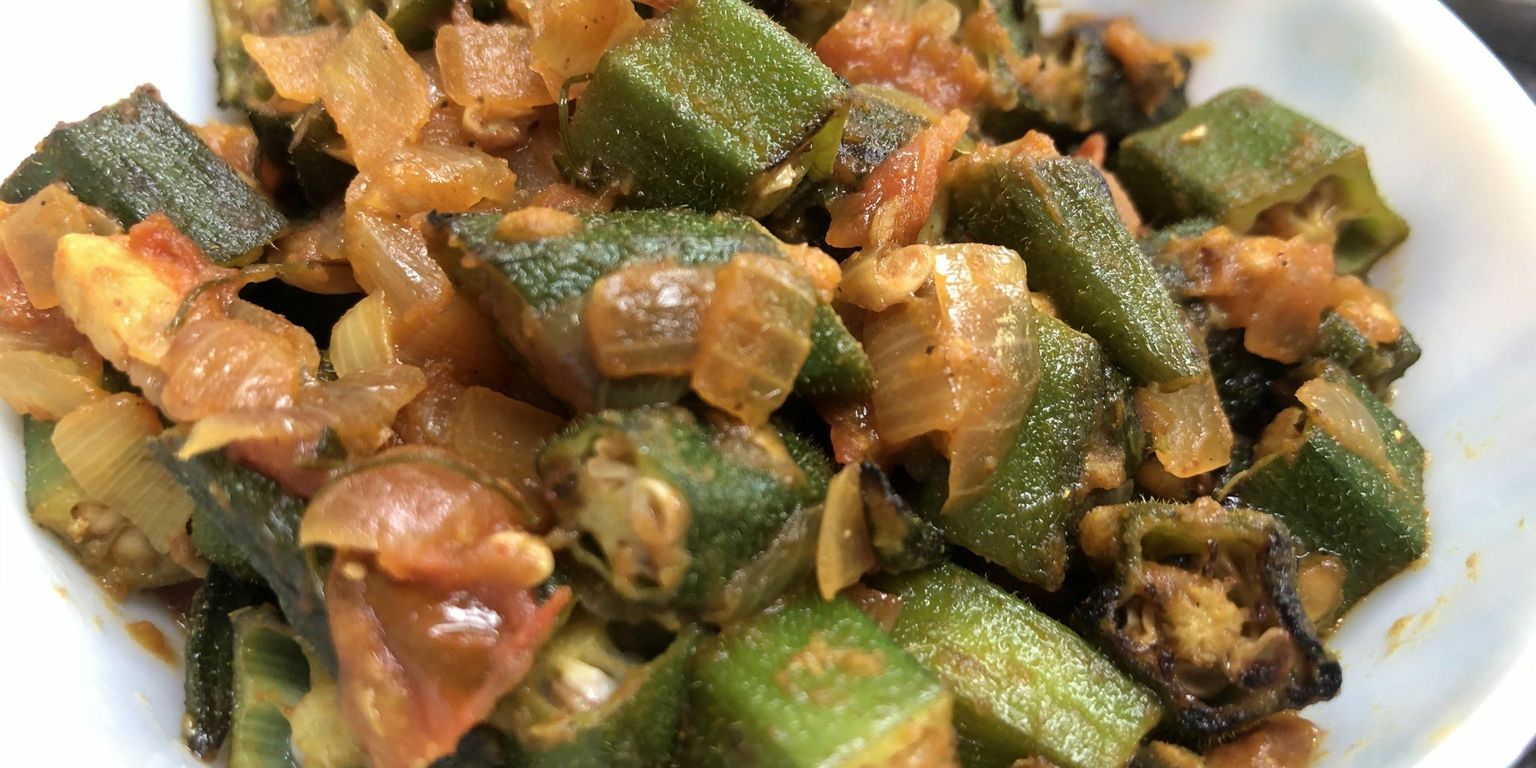BhindiMasala: (0, 0, 1427, 768)
